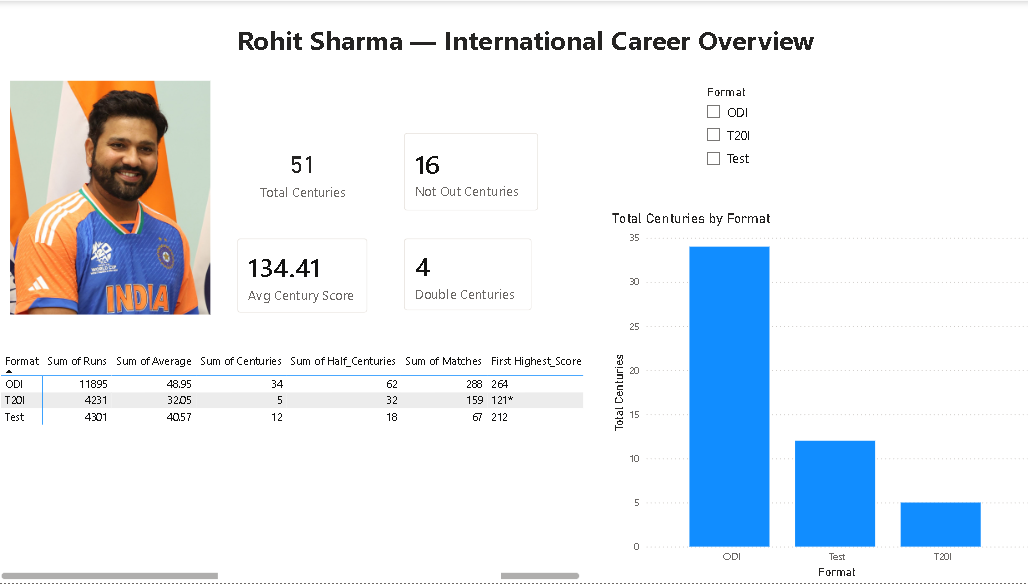

This screenshot's page, from the dashboard's own definition file:
{"tool":"powerbi","page":{"name":"Career Overview.","canvas":[1280,720],"ordinal":0},"visuals":[{"type":"card","fields":{"Values":["rohit_sharma_centuries.Total Centuries"]},"box":[0,116.8,185.5,130.5],"z":0},{"type":"cardVisual","fields":{"Data":["rohit_sharma_centuries.Not Out Centuries"]},"box":[185.1,116.3,193.9,130.4],"z":1000},{"type":"cardVisual","fields":{"Data":["rohit_sharma_centuries.Avg Century Score"]},"box":[379.6,116.8,214.7,127.1],"z":2000},{"type":"cardVisual","fields":{"Data":["rohit_sharma_centuries.Double Centuries"]},"box":[593.9,116.3,195.6,123.4],"z":3000},{"type":"clusteredColumnChart","fields":{"Category":["rohit_sharma_centuries.Format"],"Y":["rohit_sharma_centuries.Total Centuries"]},"box":[770.2,259.1,509.3,460],"z":4000},{"type":"pivotTable","fields":{"Rows":["rohit_sharma_career_summary.Format"],"Values":["Sum(rohit_sharma_career_summary.Runs)","Sum(rohit_sharma_career_summary.Average)","Sum(rohit_sharma_career_summary.Centuries)","Sum(rohit_sharma_career_summary.Half_Centuries)","Sum(rohit_sharma_career_summary.Matches)","Min(rohit_sharma_career_summary.Highest_Score)"]},"box":[0,271.4,729.7,449.4],"z":5000},{"type":"slicer","fields":{"Values":["rohit_sharma_centuries.Format"]},"box":[865.4,116.3,317.2,126.9],"z":6000},{"type":"textbox","box":[273,563,350,156],"z":7000},{"type":"textbox","box":[273.1,20.6,781.5,65.3],"z":8000}]}

Visuals, with their boxes in screenshot pixels (x1, y1, x2, y2), scaled from the page's 1280x720 canvas onto the 1028x584 screenshot:
card - rohit_sharma_centuries.Total Centuries: (0,95,149,201)
cardVisual - rohit_sharma_centuries.Not Out Centuries: (149,94,304,200)
cardVisual - rohit_sharma_centuries.Avg Century Score: (305,95,477,198)
cardVisual - rohit_sharma_centuries.Double Centuries: (477,94,634,194)
clusteredColumnChart - rohit_sharma_centuries.Format x rohit_sharma_centuries.Total Centuries: (619,210,1027,583)
pivotTable - rohit_sharma_career_summary.Format x Sum(rohit_sharma_career_summary.Runs): (0,220,586,583)
slicer - rohit_sharma_centuries.Format: (695,94,950,197)
textbox: (219,457,500,583)
textbox: (219,17,847,70)
